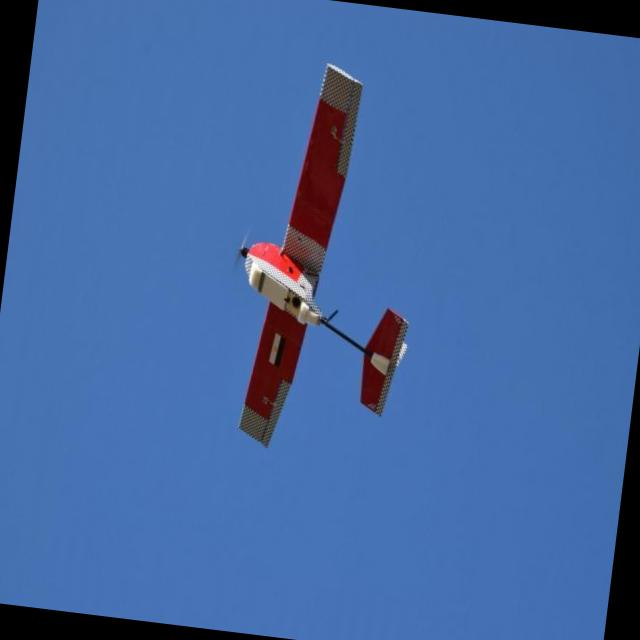UAV: (156, 42, 473, 470)
